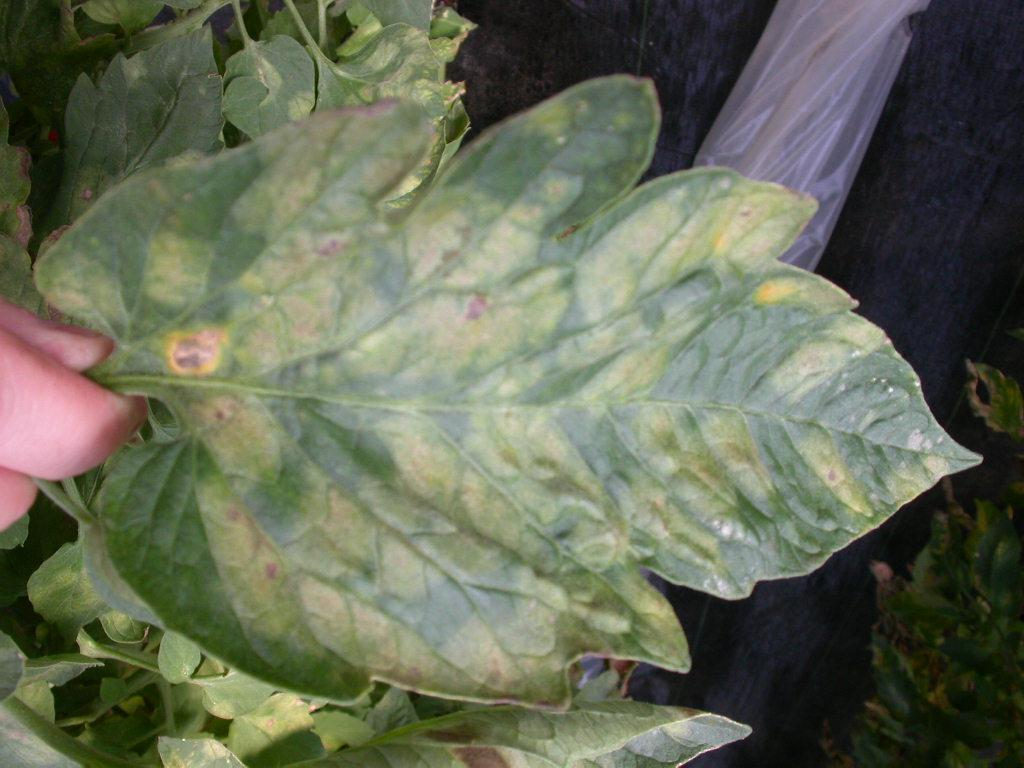Tomato mold leaf: (118, 71, 998, 724)
